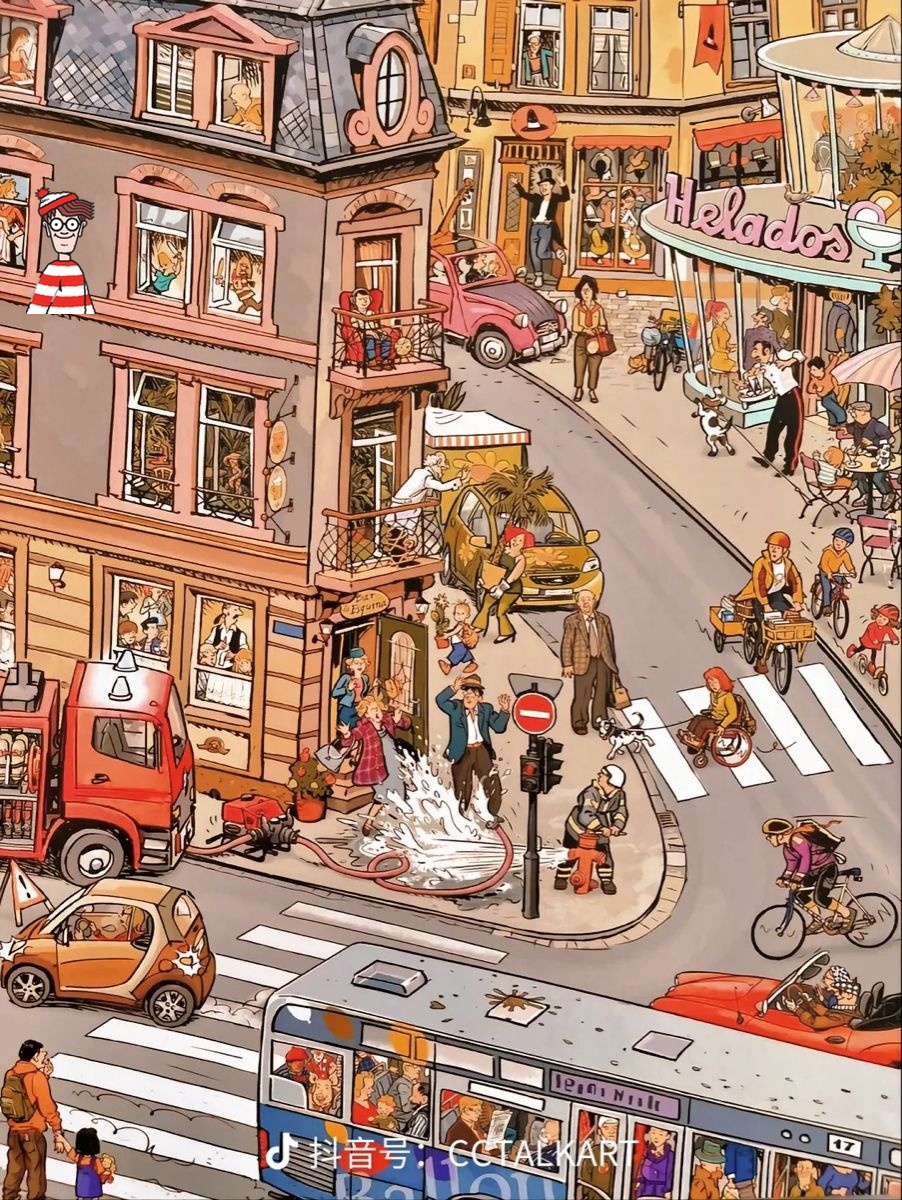waldo: (26, 187, 96, 314)
